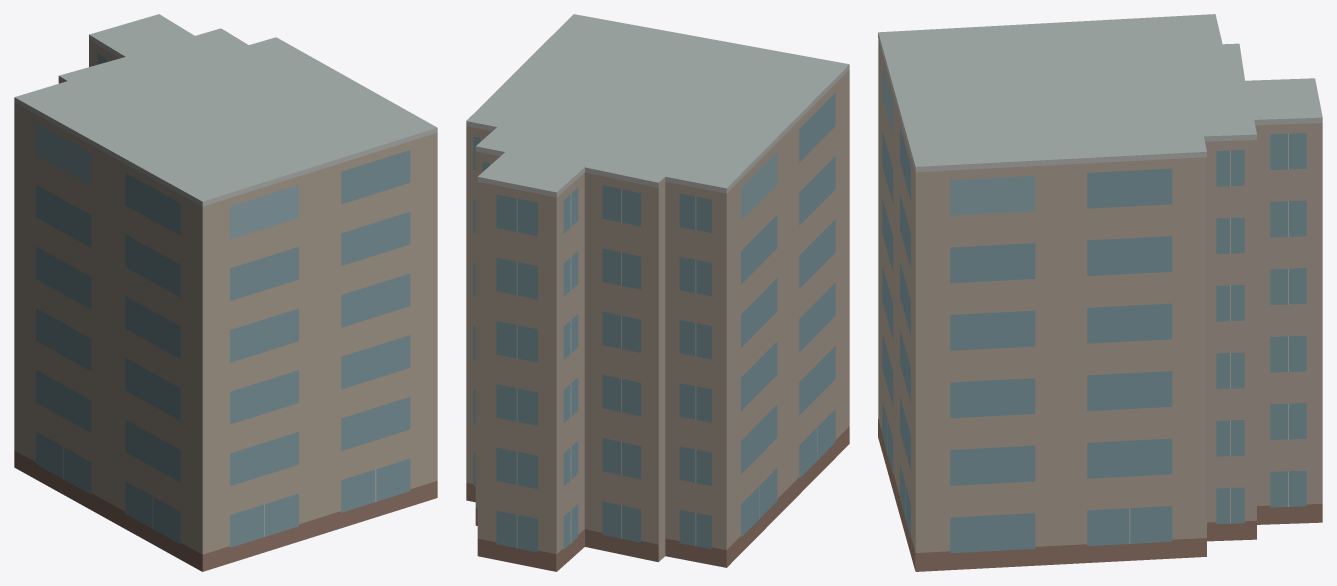
Rendered from survey-upis-32746225.glb.
3 renders of one model, left to right at view 1: azimuth 30°, elevation 25°; view 2: azimuth 150°, elevation 25°; view 3: azimuth 270°, elevation 25°, orthographic. The views are drawn at different scales.
Visible parts, largest first — view 1: survey-upis-32746225.tmp; view 2: survey-upis-32746225.tmp; view 3: survey-upis-32746225.tmp.
Boxes of the visible parts, x1,y1,x2,y2 form: survey-upis-32746225.tmp: [14, 14, 437, 571]; survey-upis-32746225.tmp: [466, 14, 849, 571]; survey-upis-32746225.tmp: [878, 14, 1322, 571].
Size of the model in its own units: 14.78 by 18.25 by 18.17.
